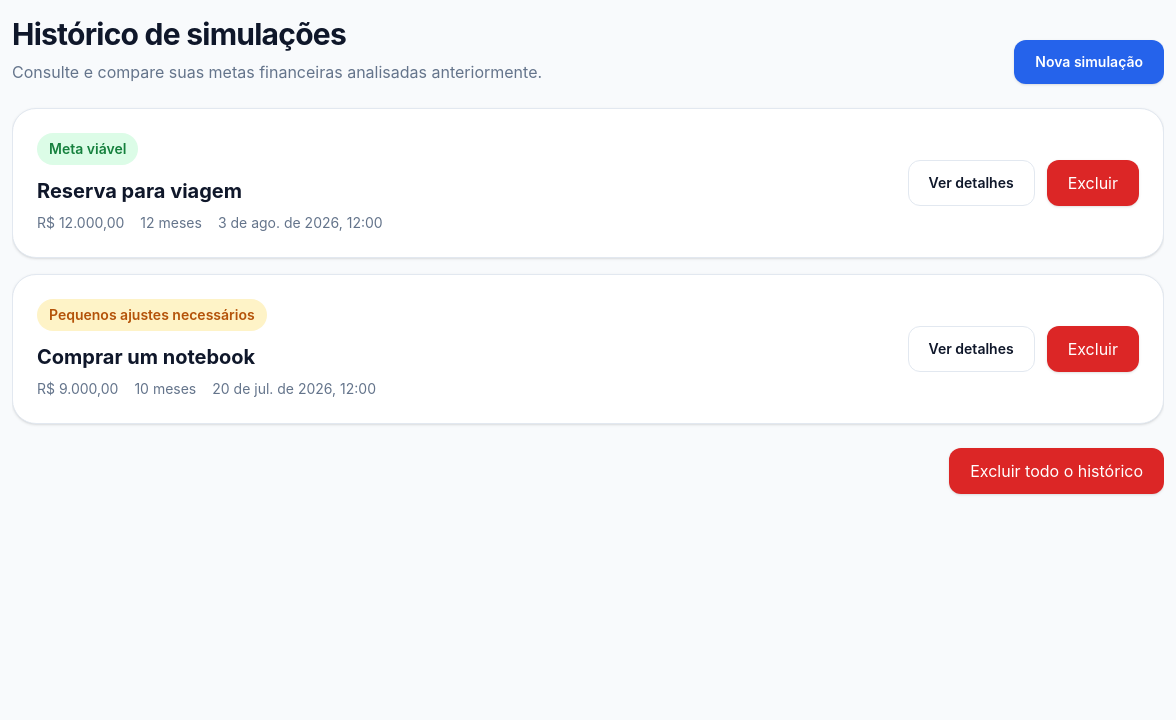
Test: HistoryPage › exclui uma simulação e atualiza a quantidade exibida
Click the button "Excluir" in the row of "Reserva para viagem" at coordinates (1093, 183), box x1=1047 y1=160 x2=1139 y2=206
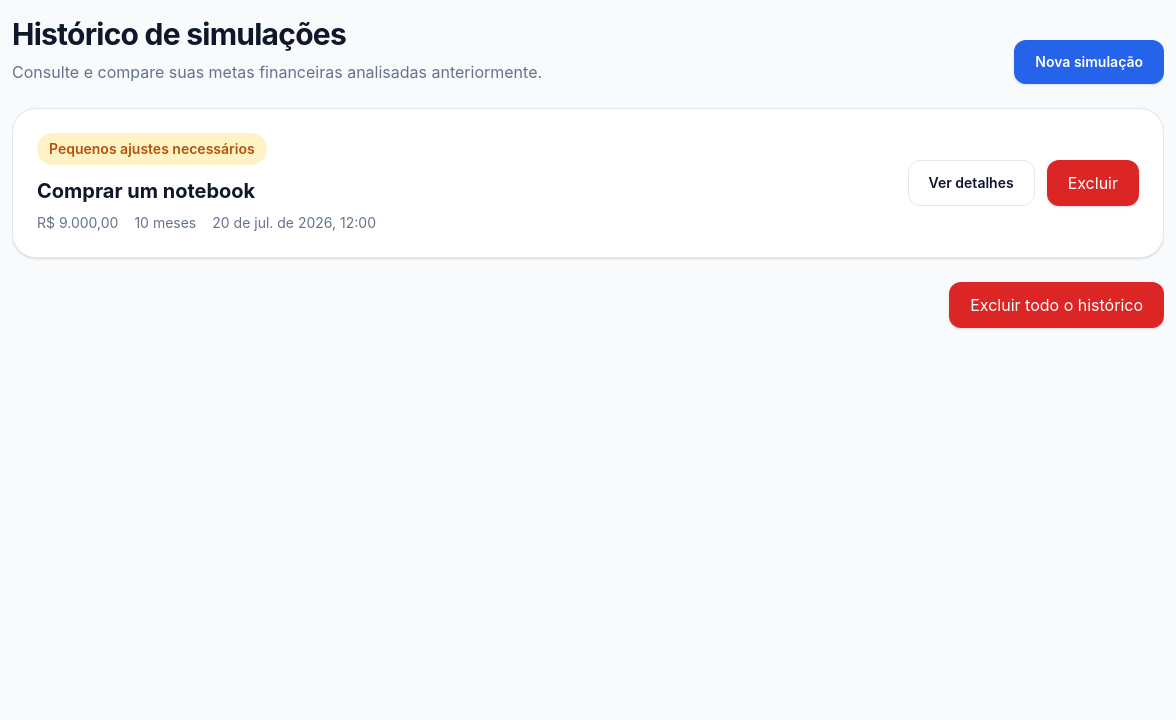
Expected: the heading "Comprar um notebook" is shown, x1=37 y1=179 x2=255 y2=203
Now the heading "Reserva para viagem" is gone
